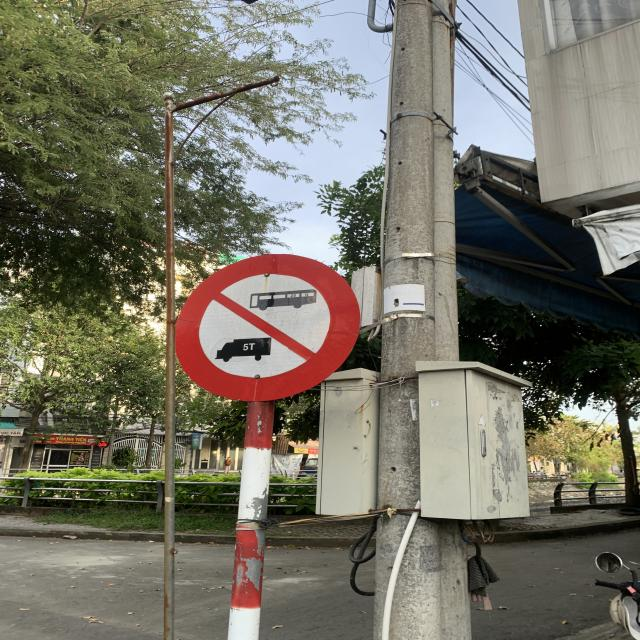Cam_XeTai_XeKhach: (180, 252, 362, 396)
